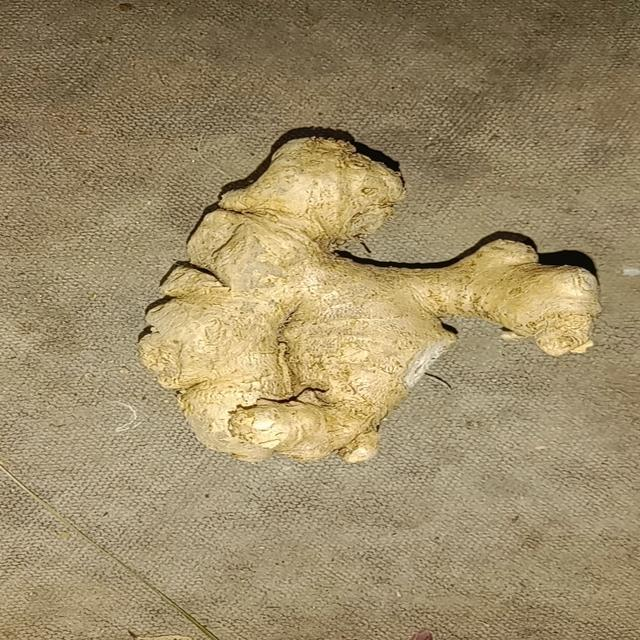ginger: (134, 116, 604, 466)
